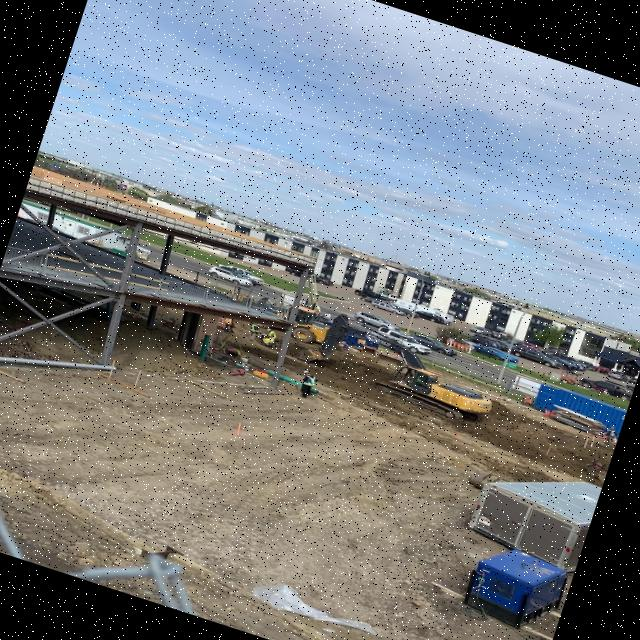Excavator: (308, 307, 506, 433)
Loader: (254, 290, 337, 351)
